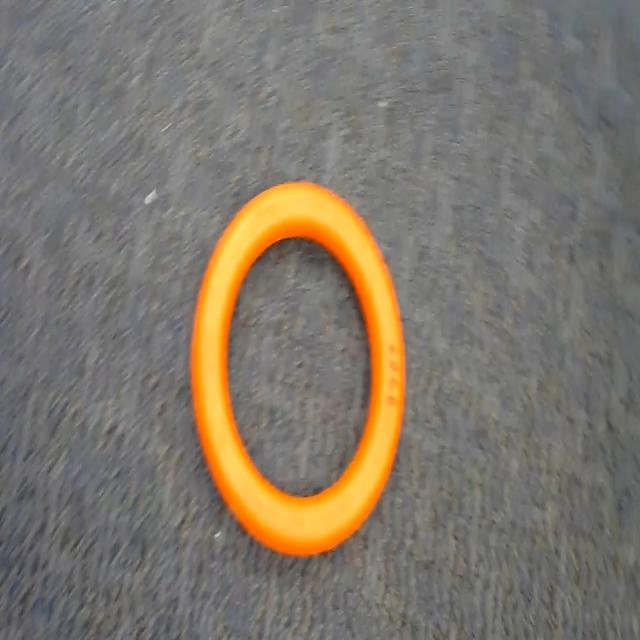note: (168, 155, 443, 588)
